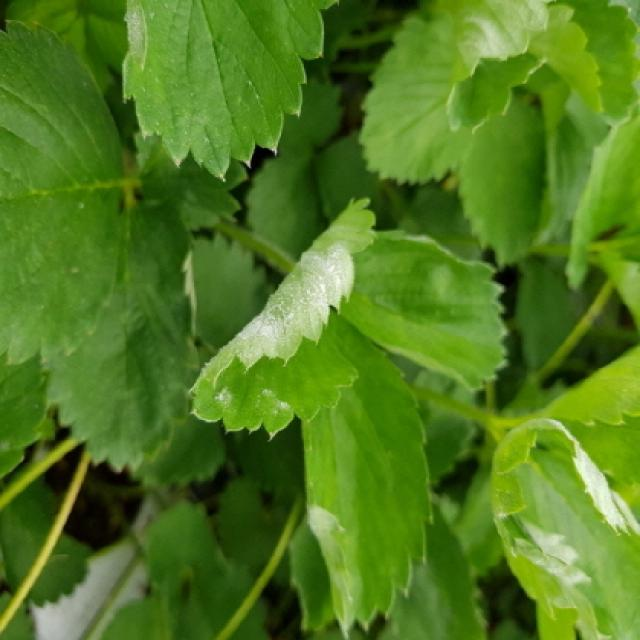Powdery Mildew Leaf: (186, 194, 379, 442), (300, 307, 433, 638), (123, 0, 342, 183), (489, 418, 640, 638)
